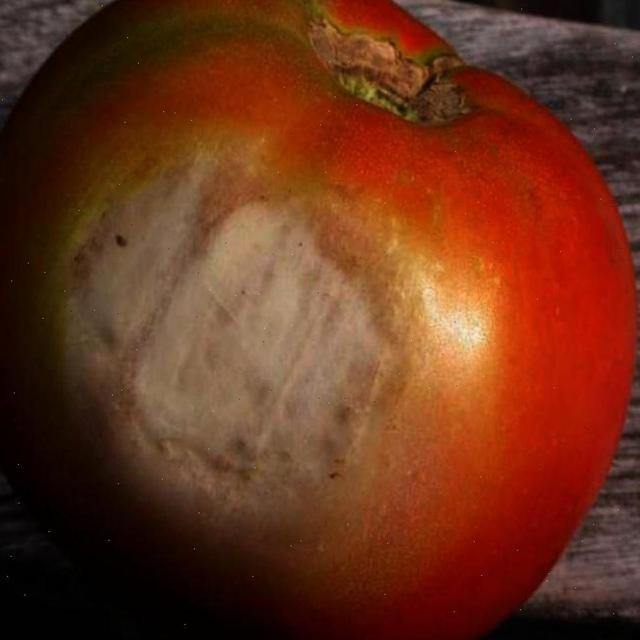Sunscald Fruit: (34, 80, 319, 383)
